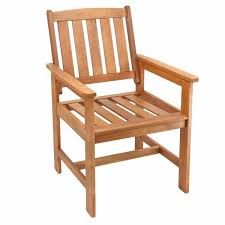tiyarina: (42, 3, 201, 218)
